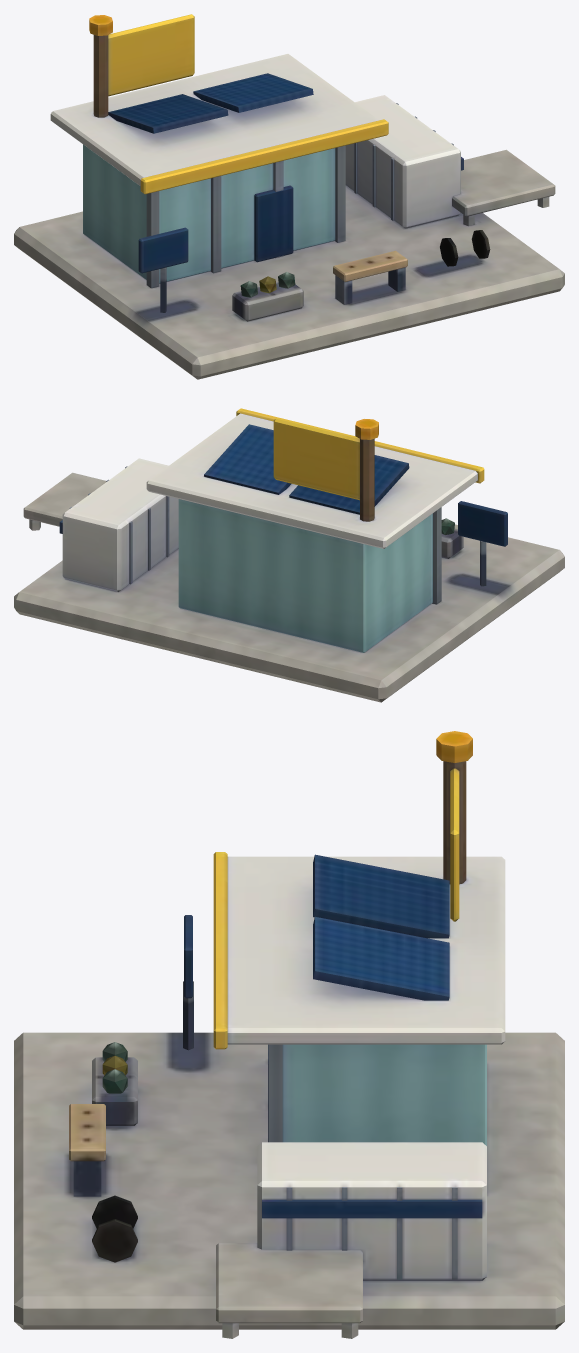
File: fishery-30.glb
3 renders of one model, top to bottom at view 1: azimuth 30°, elevation 25°; view 2: azimuth 150°, elevation 25°; view 3: azimuth 270°, elevation 25°, orthographic. The views are drawn at different scales.
Parts seen in each view (by area): view 1: fishery-30; view 2: fishery-30; view 3: fishery-30.
Part boxes in pixels (x1,y1,x2,y2): fishery-30: (14,14,564,379); fishery-30: (14,408,564,702); fishery-30: (14,731,564,1338).
Bounding box in the file's own units: 1.61 × 0.87 × 1.2.
Materials: 1 (1 with a texture image).
